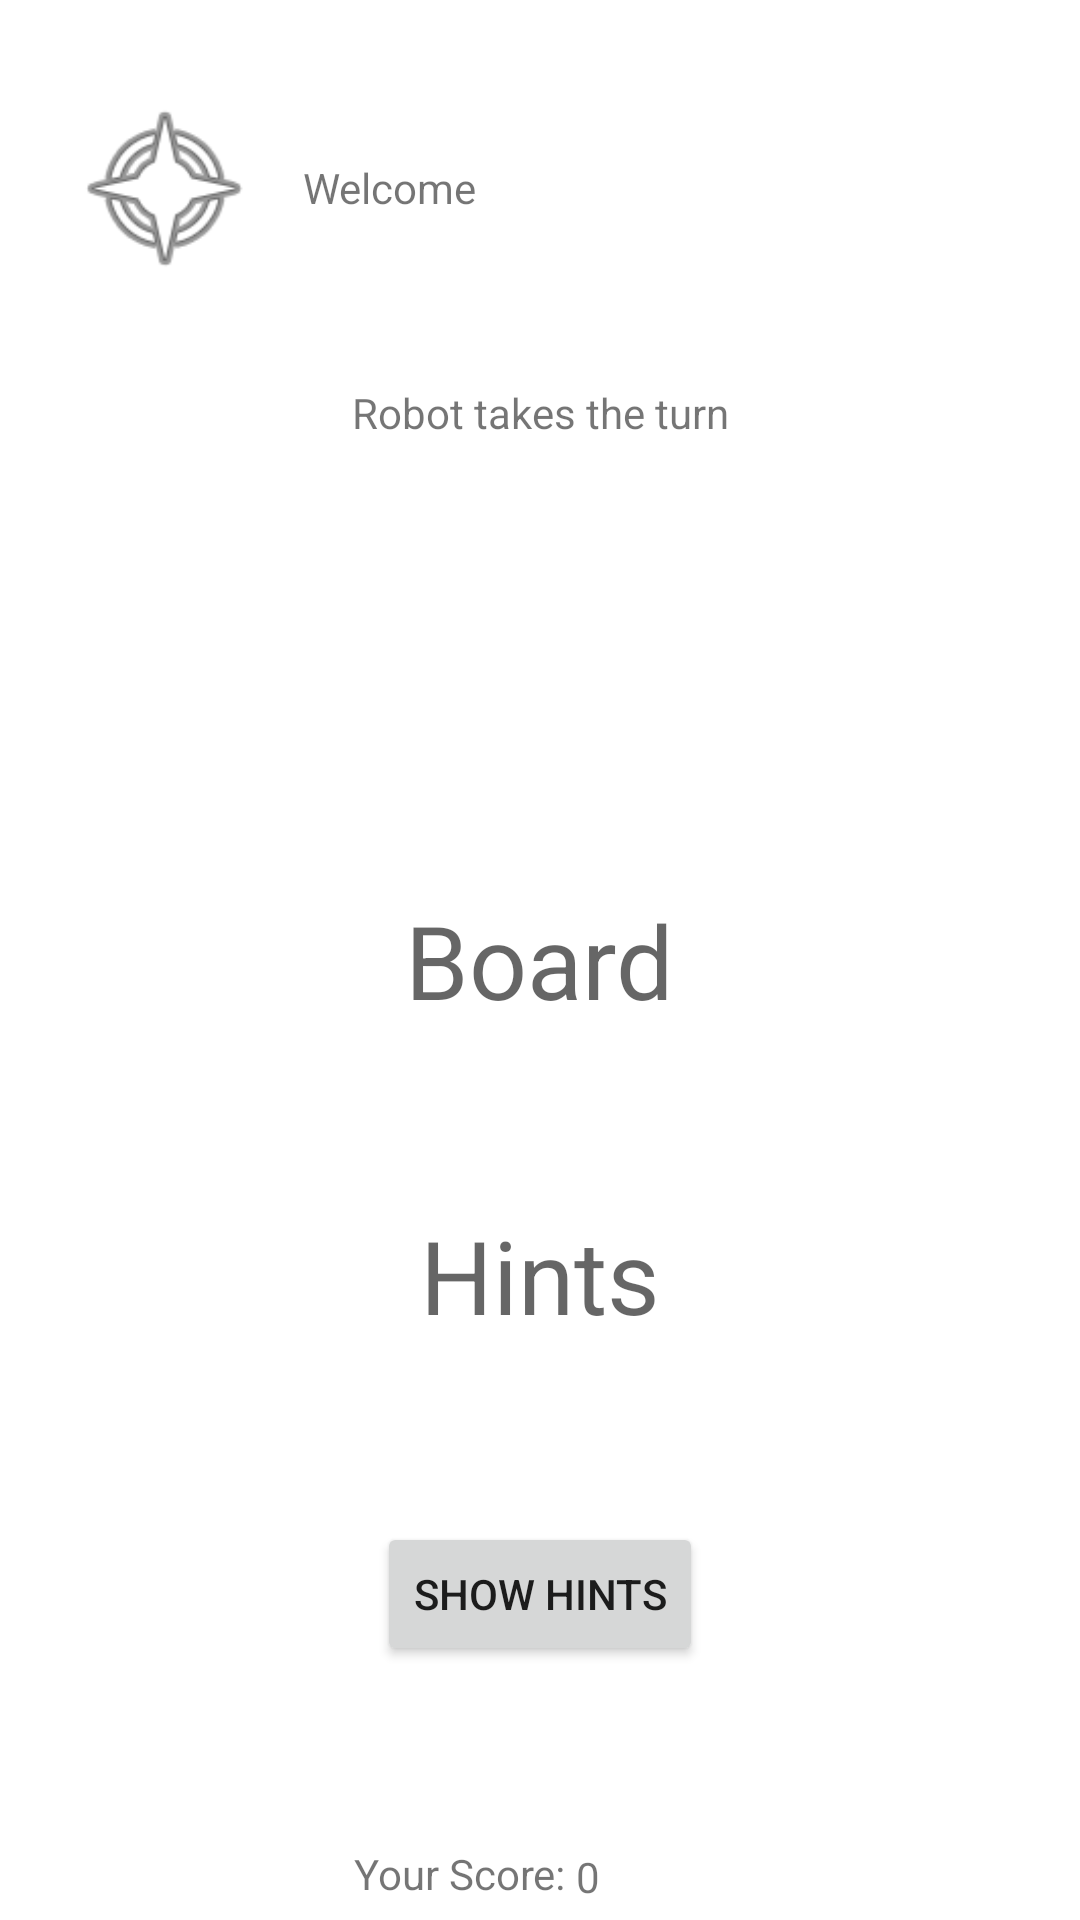

Icon bounding boxes for this 1080 x 1920 phone screenshot, format rect(x1, y1, x2, y2):
compass: rect(87, 112, 242, 265)
